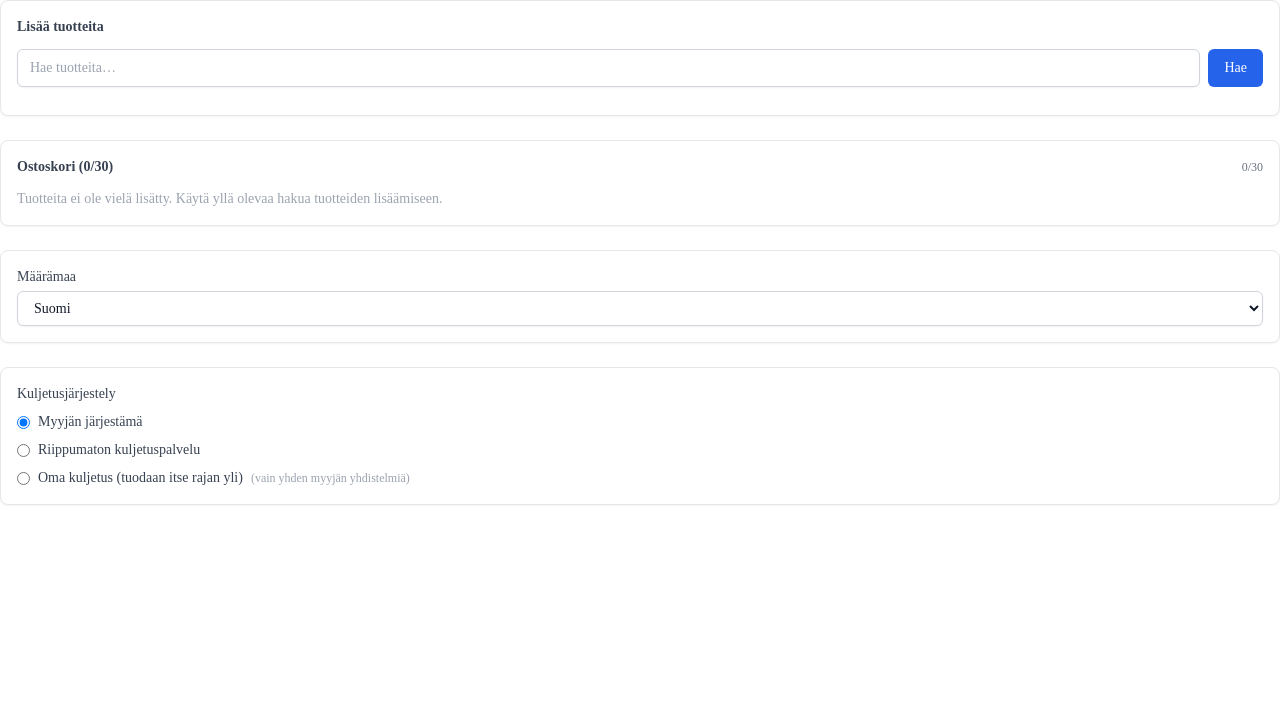
Test: BasketBuilder attribute row (fi-locale-surface-hardening 2.6) › renders the identical join when the brand is present
Type "kotilo" into the field with placeholder "Hae tuotteita…".
click(609, 68); type("kotilo")  # box [17,49,1200,87]
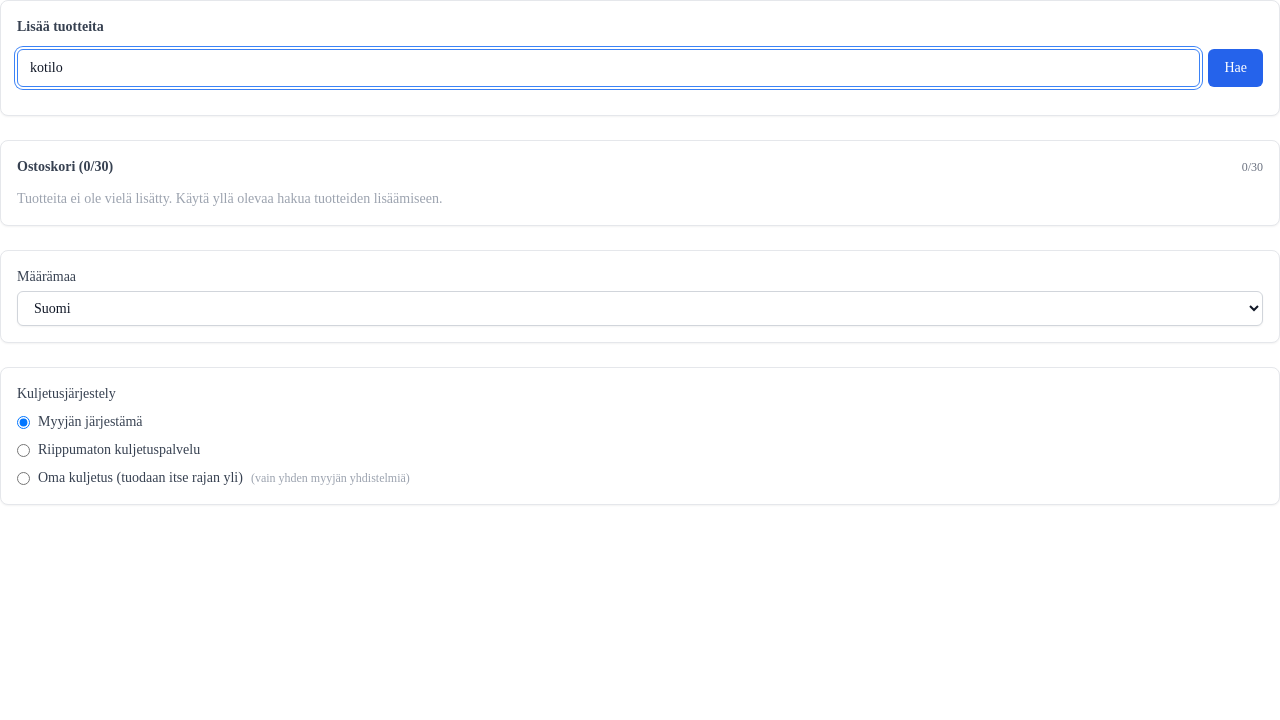
Click the button "Hae".
click(1236, 68)  # box [1208,49,1263,87]
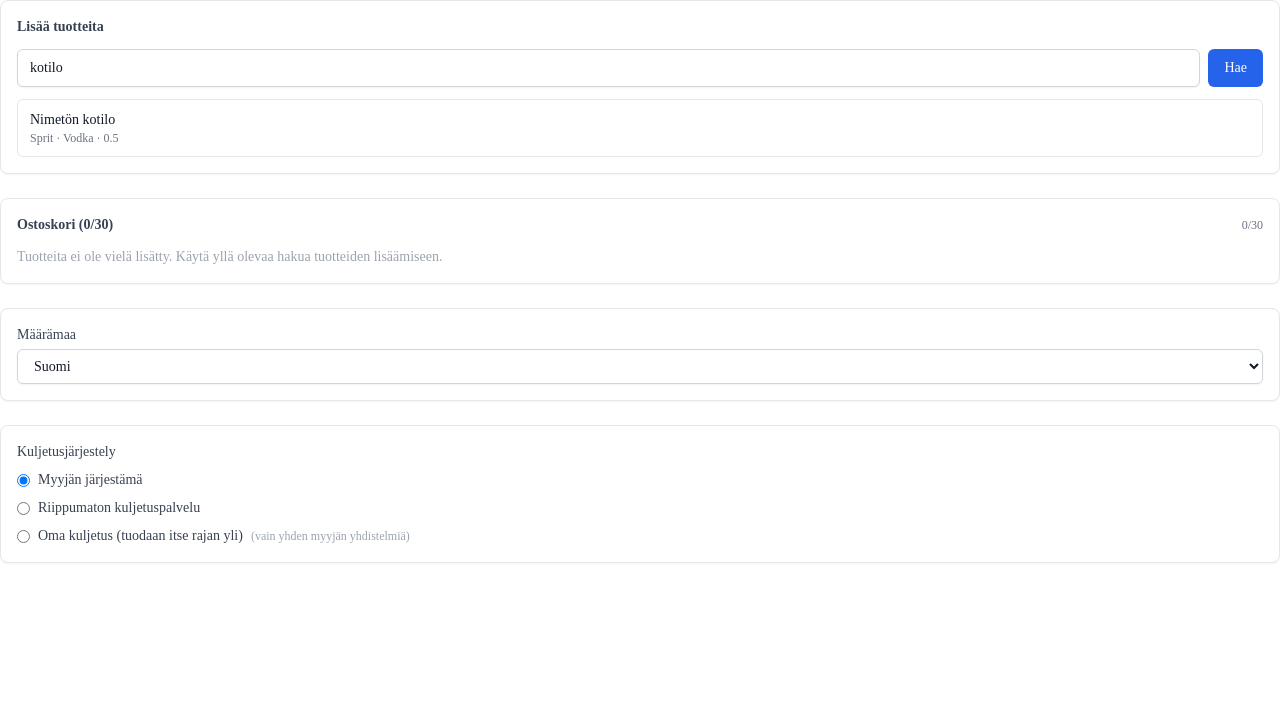
Expected: the text "Sprit · Vodka · 0.5" is shown, [30,131,119,145]
